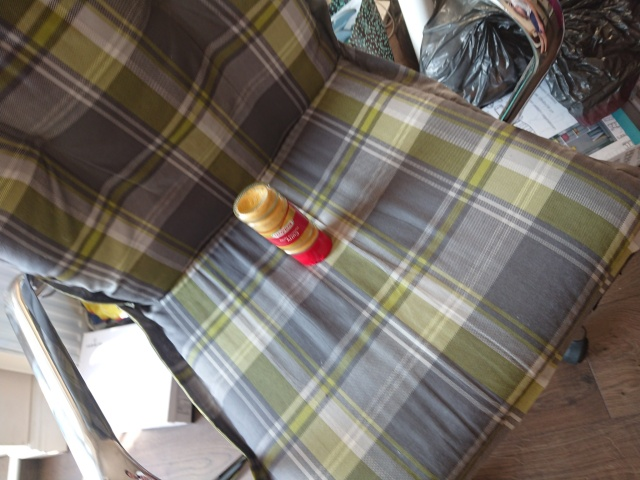Kotanyi Curry Spices Mix 70g: (231, 181, 334, 269)
